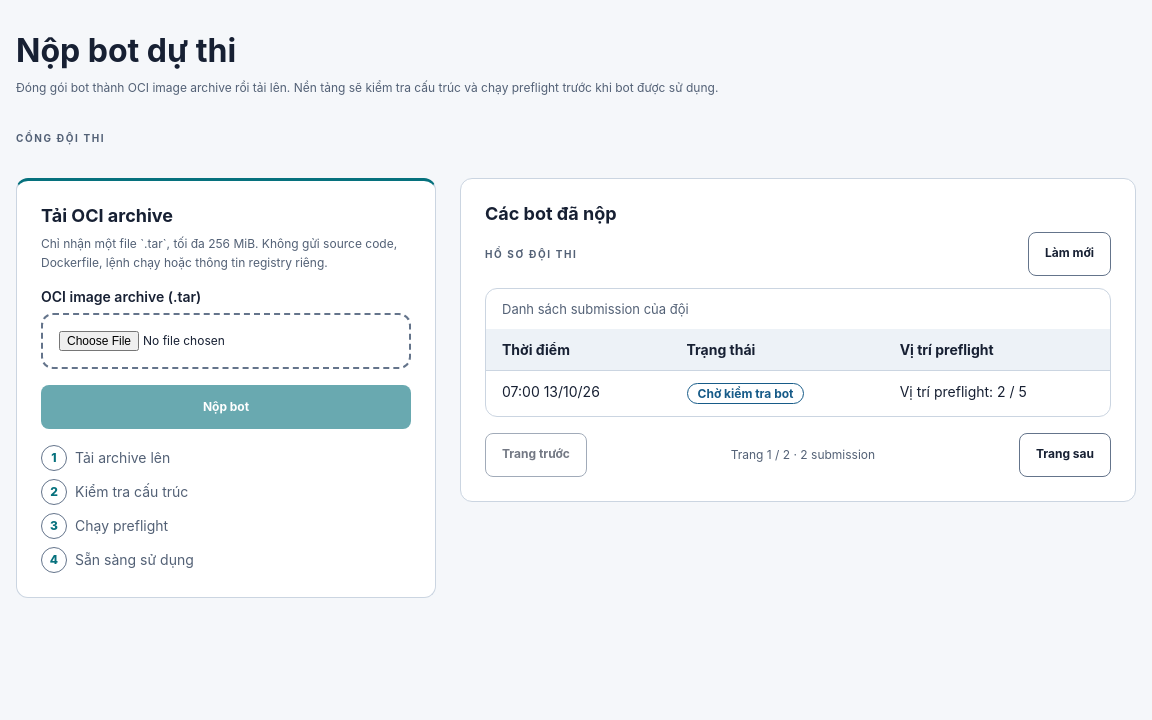
team submission portal › pages through the server-owned submission history
Check: the text "Trang 1 / 2 · 2 submission" is shown, box [731,447,875,462]
Click the button "Trang sau" at (1065, 455), box [1019,433,1111,477]
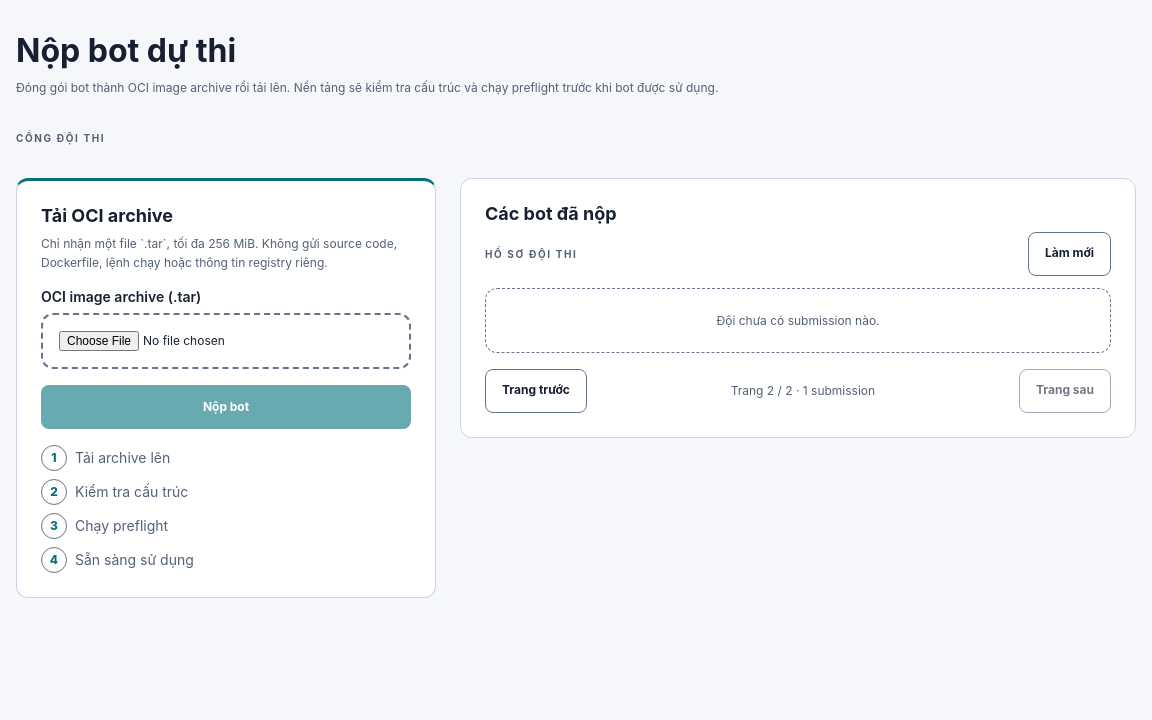
Check: the text "Trang 2 / 2 · 1 submission" is shown, box [731,383,875,398]
